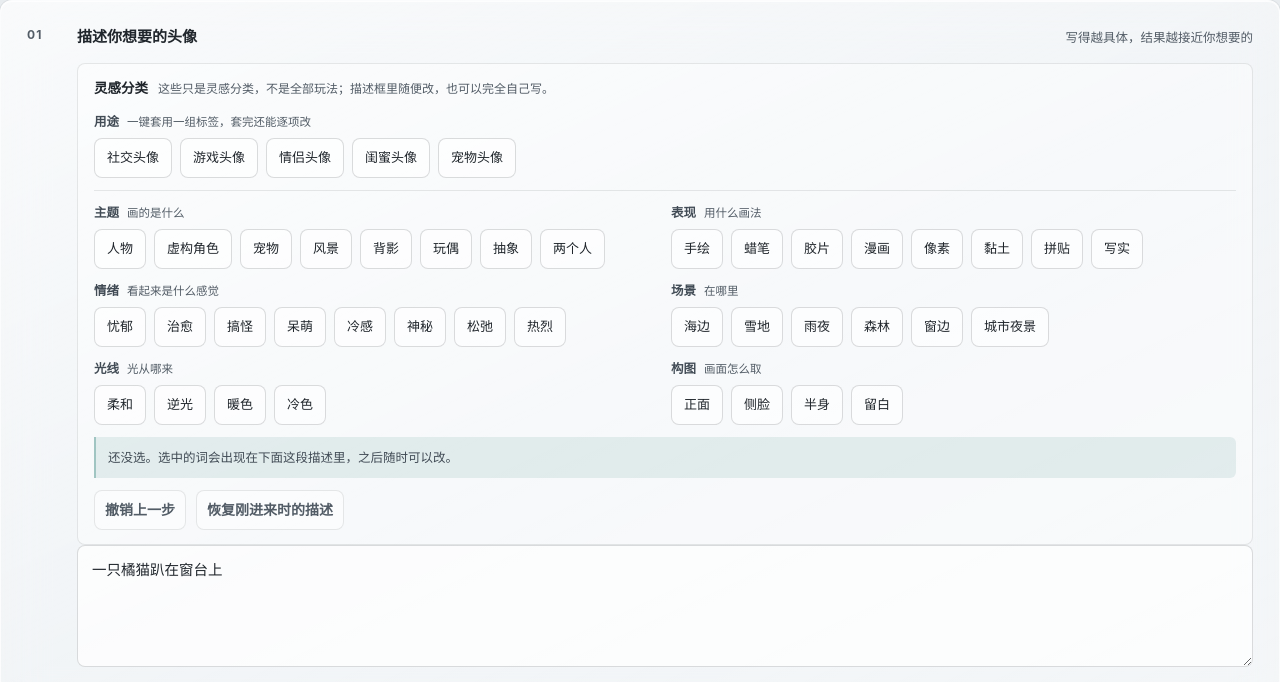
创作台的灵感分类 › 已有自写内容时只追加，原有文字一个字都不少
Click the button "蜡笔".
click(757, 249)  # box [731,229,783,269]
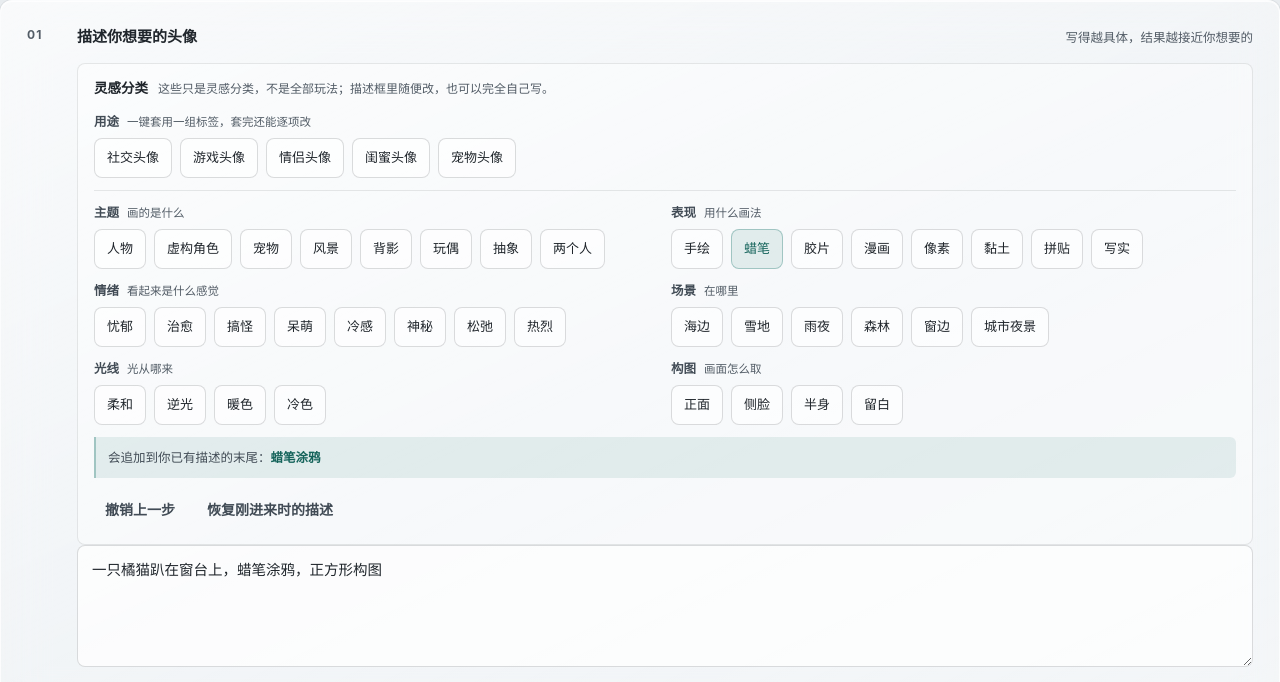
Check: the text box holds "一只橘猫趴在窗台上，蜡笔涂鸦，正方形构图", box [77,545,1253,666]
